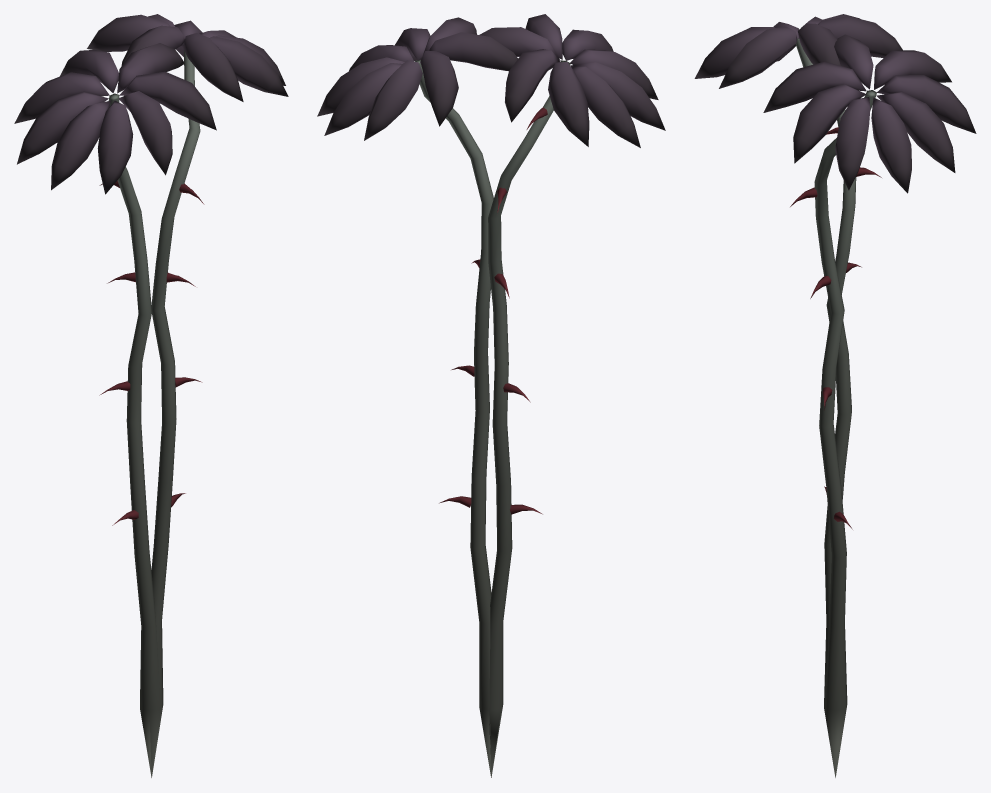
Rendered from plants-flowers-thorny-purple-flower_v2.fbx.
The picture shows the model from 3 angles, left to right: view 1: azimuth 30°, elevation 25°; view 2: azimuth 150°, elevation 25°; view 3: azimuth 270°, elevation 25°; orthographic projection.
Parts seen in each view (by area): view 1: Thorny Purple Flower_v2; view 2: Thorny Purple Flower_v2; view 3: Thorny Purple Flower_v2.
Part boxes in pixels (x1=…): Thorny Purple Flower_v2: x1=14, y1=14, x2=288, y2=777; Thorny Purple Flower_v2: x1=317, y1=14, x2=665, y2=777; Thorny Purple Flower_v2: x1=694, y1=14, x2=976, y2=777.
Bounding box in the file's own units: 0.2394 × 0.6 × 0.2058.
